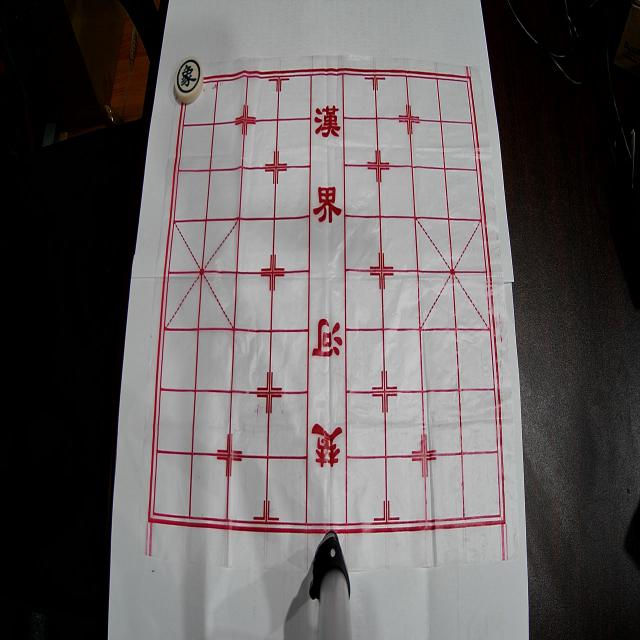black-elephant: (175, 56, 203, 104)
